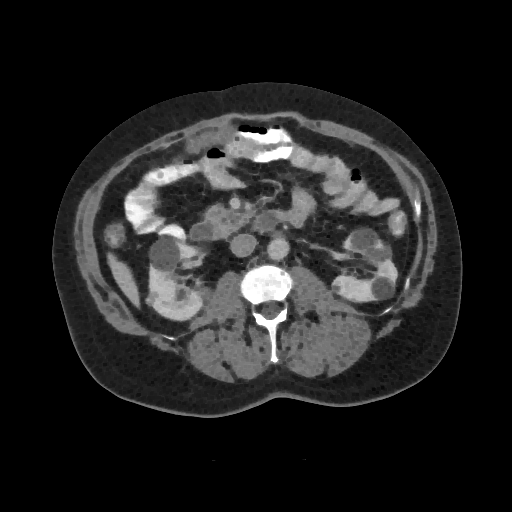Lesion: (143, 289, 162, 309)
